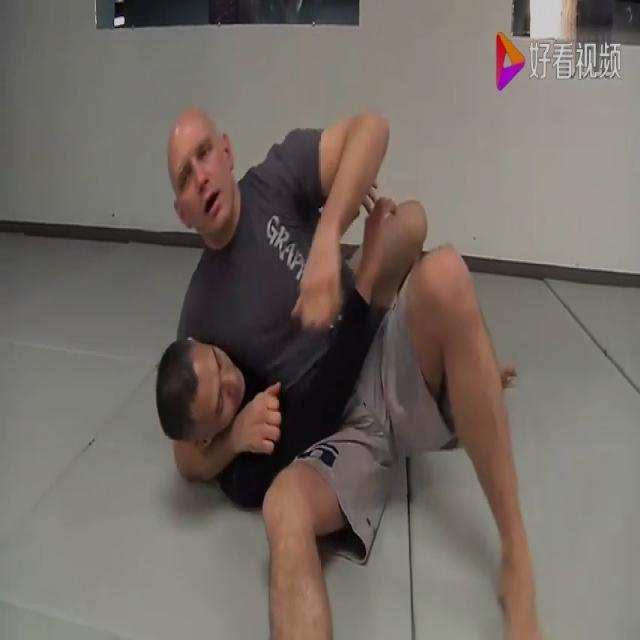fight: (144, 93, 544, 639)
